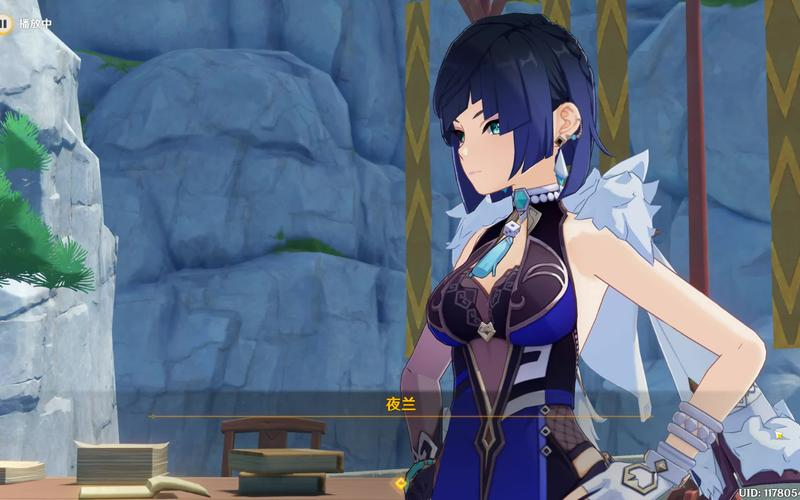夜兰: (389, 18, 770, 500)
